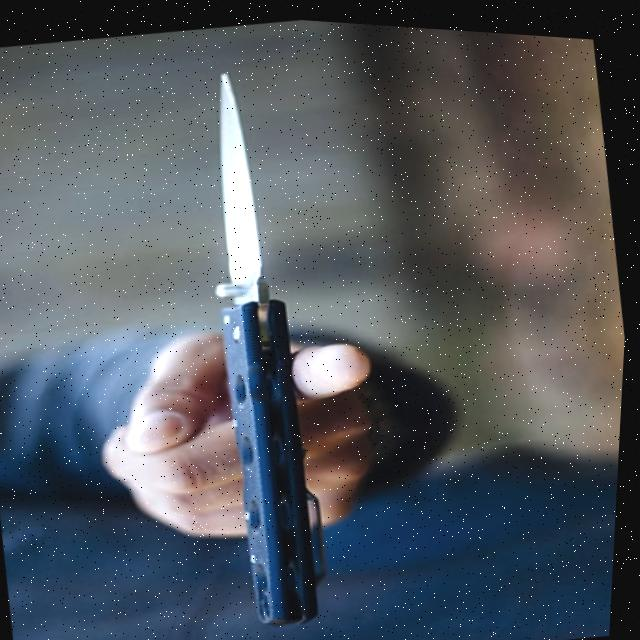knife: (164, 51, 355, 637)
